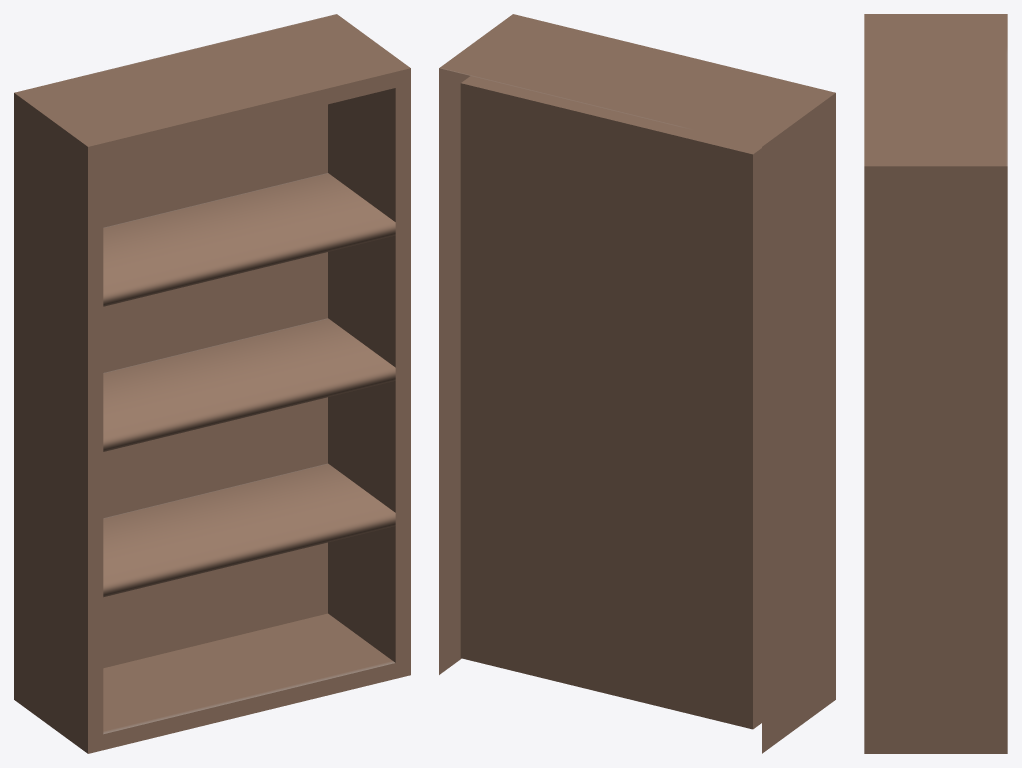
Rendered from bookcase.fbx.
3 views of the same model, side by side, from view 1: azimuth 30°, elevation 25°; view 2: azimuth 150°, elevation 25°; view 3: azimuth 270°, elevation 25° (orthographic). The views are drawn at different scales.
Visible parts, largest first — view 1: Cube.051; view 2: Cube.051; view 3: Cube.051.
Boxes of the visible parts, left/top/right/bottom form: Cube.051: left=14, top=14, right=410, bottom=753; Cube.051: left=439, top=14, right=835, bottom=753; Cube.051: left=864, top=14, right=1007, bottom=753.
Size of the model in its own units: 111 by 200 by 44.22.
Materials: 1 (1 with a texture image).
